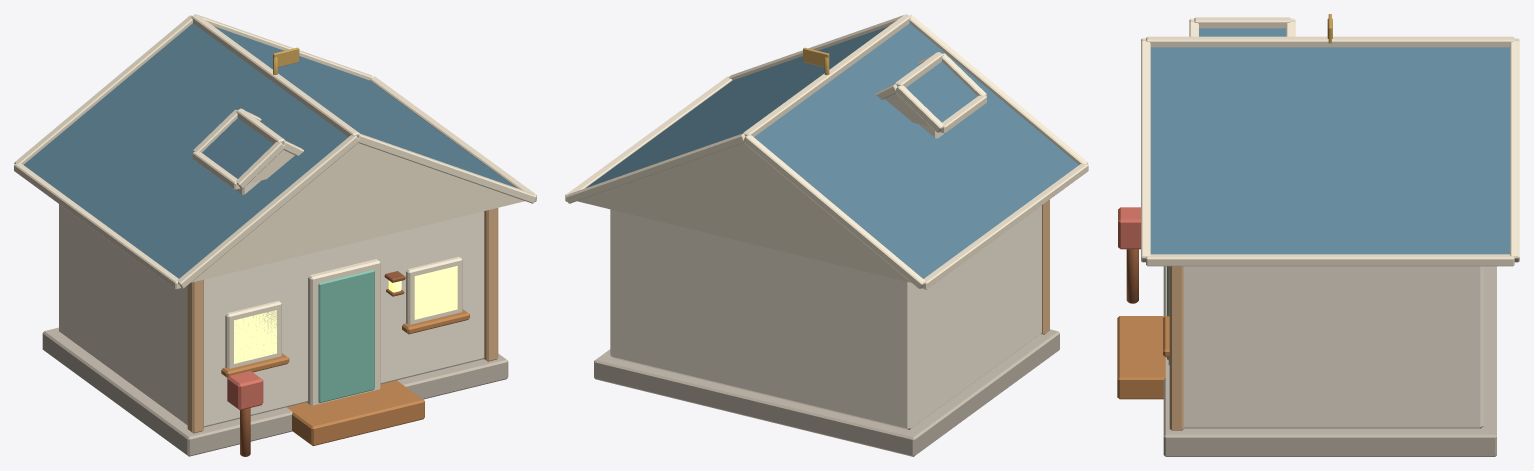
The picture shows the model from 3 angles, left to right: view 1: azimuth 30°, elevation 25°; view 2: azimuth 150°, elevation 25°; view 3: azimuth 270°, elevation 25°; orthographic projection. The views are drawn at different scales.
Parts seen in each view (by area): view 1: Cliff_Roof, cream_wall, ivory_trim, Plinth, Door, warm_cedar, honey_wood, amber_glow, Dormer_Cap, Post_Box, toasted_wood; view 2: Cliff_Roof, cream_wall, ivory_trim, Plinth, Dormer_Cap, honey_wood; view 3: Cliff_Roof, cream_wall, ivory_trim, Plinth, warm_cedar, honey_wood, Post_Box, Dormer_Cap, toasted_wood.
Part boxes in pixels (x1,y1,x2,y2): Cliff_Roof: (24,23,524,282); cream_wall: (59,180,484,427); ivory_trim: (14,14,536,405); Plinth: (42,327,508,456); Door: (318,270,374,402); warm_cedar: (221,309,469,445); honey_wood: (187,208,498,433); amber_glow: (234,266,457,363); Dormer_Cap: (202,118,294,183); Post_Box: (227,371,263,410); toasted_wood: (240,271,405,456); Cliff_Roof: (577,23,1078,282); cream_wall: (610,124,1041,429); ivory_trim: (565,14,1088,289); Plinth: (594,329,1059,456); Dormer_Cap: (885,61,977,126); honey_wood: (1041,199,1049,334); Cliff_Roof: (1150,47,1509,254); cream_wall: (1183,266,1483,428); ivory_trim: (1141,17,1519,365); Plinth: (1163,266,1496,456); warm_cedar: (1117,316,1169,399); honey_wood: (1169,266,1183,430); Post_Box: (1118,207,1140,249); Dormer_Cap: (1199,28,1285,36); toasted_wood: (1126,249,1138,303).
Bounding box in the file's own units: 5.41 × 4.45 × 4.58.
